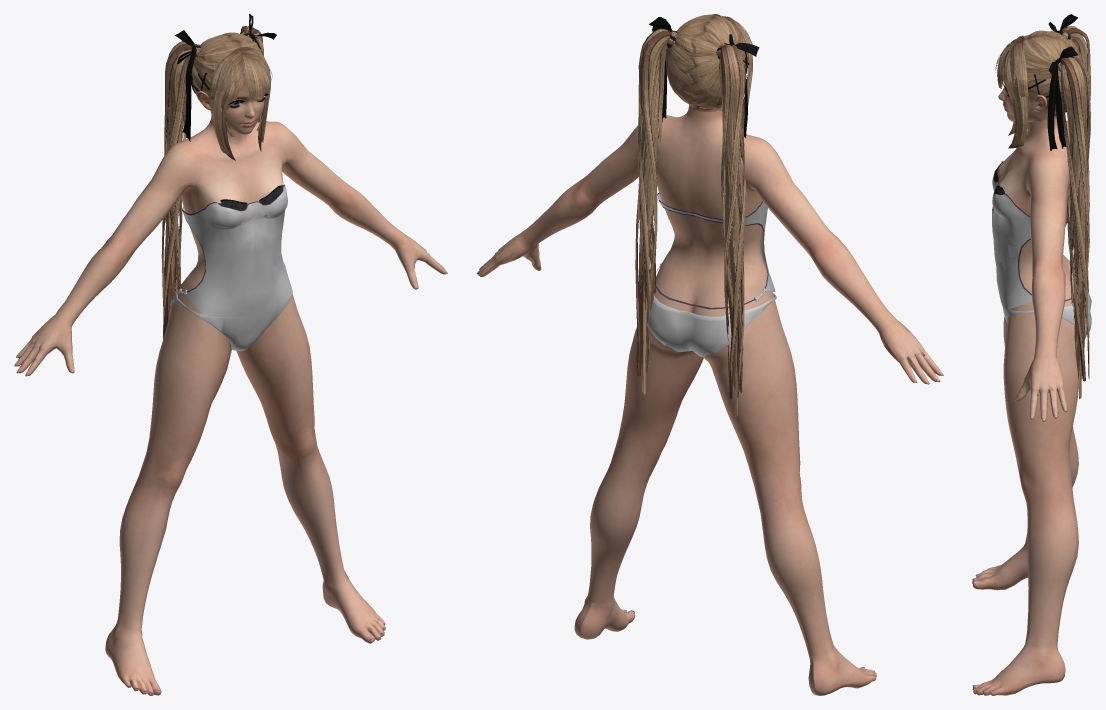
The model's file is BikiniGirl.FBX.
3 renders of one model, left to right at view 1: azimuth 30°, elevation 25°; view 2: azimuth 150°, elevation 25°; view 3: azimuth 270°, elevation 25°, orthographic. The views are drawn at different scales.
Visible parts, largest first — view 1: Box02, objModel001_24_Bikini_1_0_0, objModel001_25_FrontHair_1_0_0, objModel001_25_HairBase_1_0_0, objModel001_25_Ponytails(1)_1_0_0, objModel001_24_Face_1_0_0, objModel001_25_Ponytails(2)_1_0_0, objModel001_25_Ponytails_1_0_0, objModel001_5_Ribbons_1_0_0, objModel001_25_Ponytails(3)_1_0_0, objModel001_25_FrontHair(1)_1_0_0; view 2: Box02, objModel001_25_Ponytails(2)_1_0_0, objModel001_25_HairBase_1_0_0, objModel001_25_Ponytails(1)_1_0_0, objModel001_24_Bikini_1_0_0, objModel001_25_Ponytails_1_0_0, objModel001_25_Ponytails(3)_1_0_0, objModel001_25_HairBase(1)_1_0_0, objModel001_5_Ribbons_1_0_0; view 3: Box02, objModel001_25_Ponytails(2)_1_0_0, objModel001_24_Bikini_1_0_0, objModel001_25_HairBase_1_0_0, objModel001_25_Ponytails_1_0_0, objModel001_25_FrontHair_1_0_0, objModel001_25_Ponytails(1)_1_0_0, objModel001_5_Ribbons_1_0_0, objModel001_24_Face_1_0_0, objModel001_25_Ponytails(3)_1_0_0, objModel001_25_FrontHair(1)_1_0_0, objModel001_5_Ribbons(1)_1_0_0 (+2 smaller).
Part boxes in pixels (x1,y1,x2,y2): Box02: (14, 116, 447, 695); objModel001_24_Bikini_1_0_0: (170, 185, 292, 350); objModel001_25_FrontHair_1_0_0: (209, 46, 270, 160); objModel001_25_HairBase_1_0_0: (191, 32, 272, 99); objModel001_25_Ponytails(1)_1_0_0: (161, 26, 257, 338); objModel001_24_Face_1_0_0: (197, 77, 264, 134); objModel001_25_Ponytails(2)_1_0_0: (162, 26, 263, 339); objModel001_25_Ponytails_1_0_0: (165, 26, 263, 331); objModel001_5_Ribbons_1_0_0: (175, 14, 276, 141); objModel001_25_Ponytails(3)_1_0_0: (165, 42, 259, 300); objModel001_25_FrontHair(1)_1_0_0: (209, 47, 270, 158); Box02: (476, 104, 943, 695); objModel001_25_Ponytails(2)_1_0_0: (635, 28, 746, 398); objModel001_25_HairBase_1_0_0: (665, 14, 752, 111); objModel001_25_Ponytails(1)_1_0_0: (636, 28, 746, 398); objModel001_24_Bikini_1_0_0: (646, 194, 776, 356); objModel001_25_Ponytails_1_0_0: (638, 29, 745, 392); objModel001_25_Ponytails(3)_1_0_0: (639, 44, 745, 416); objModel001_25_HairBase(1)_1_0_0: (666, 15, 751, 109); objModel001_5_Ribbons_1_0_0: (652, 17, 759, 137); Box02: (972, 118, 1086, 695); objModel001_25_Ponytails(2)_1_0_0: (1060, 26, 1090, 399); objModel001_24_Bikini_1_0_0: (992, 170, 1091, 334); objModel001_25_HairBase_1_0_0: (995, 30, 1083, 115); objModel001_25_Ponytails_1_0_0: (1060, 26, 1087, 336); objModel001_25_FrontHair_1_0_0: (997, 36, 1028, 148); objModel001_25_Ponytails(1)_1_0_0: (1060, 26, 1090, 381); objModel001_5_Ribbons_1_0_0: (1047, 14, 1077, 150); objModel001_24_Face_1_0_0: (998, 76, 1056, 122); objModel001_25_Ponytails(3)_1_0_0: (1060, 26, 1087, 378); objModel001_25_FrontHair(1)_1_0_0: (998, 36, 1028, 148); objModel001_5_Ribbons(1)_1_0_0: (1028, 14, 1077, 149).
Size of the model in its own units: 1.08 by 1.48 by 0.2626.
